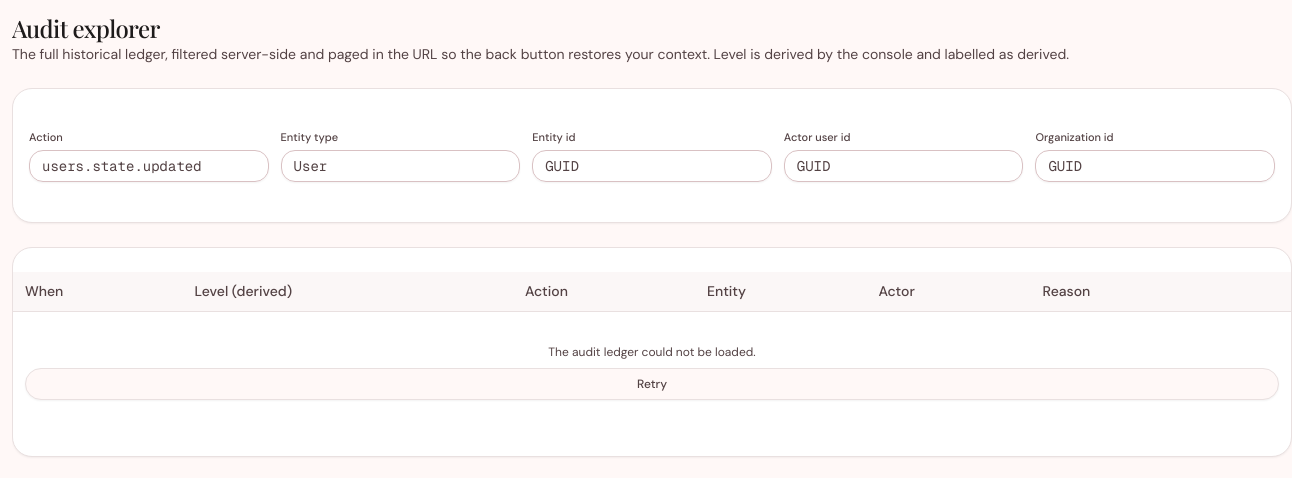
AdminAuditView › renders an error state with a working retry when the query fails
Click the button "Retry" at (652, 384), box [25,368,1279,400]
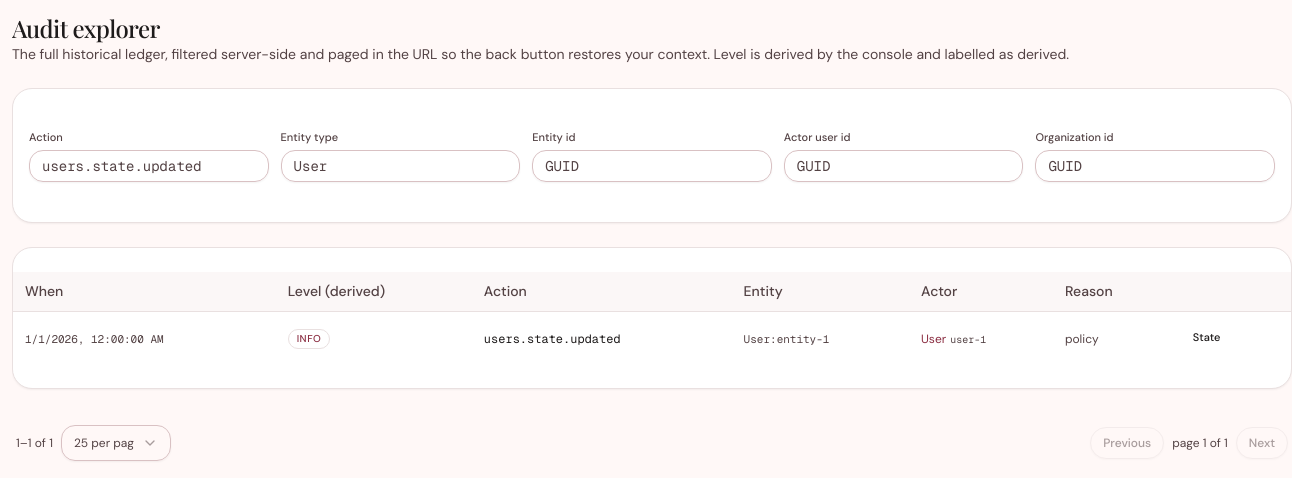
Check: the text "users.state.updated" is shown, box [484,331,621,347]
